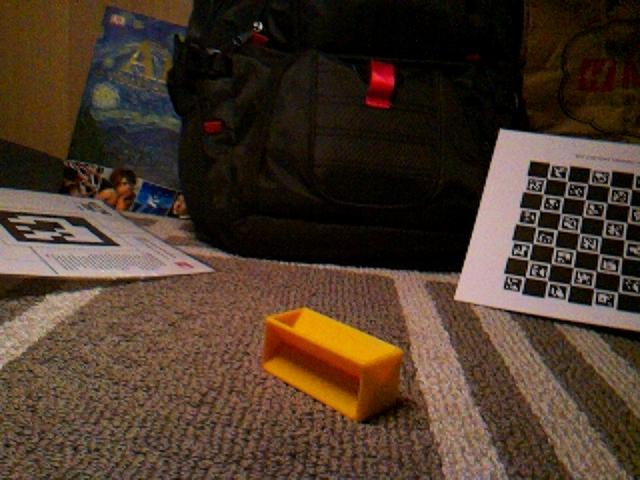yellow: (260, 305, 405, 423)
